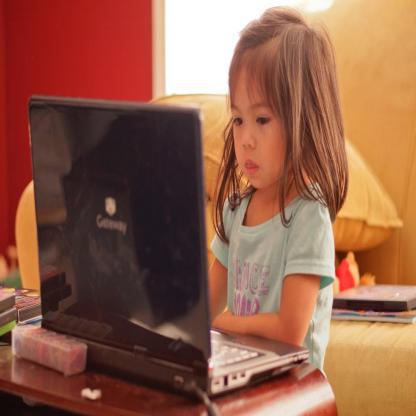board: (28, 95, 310, 398)
